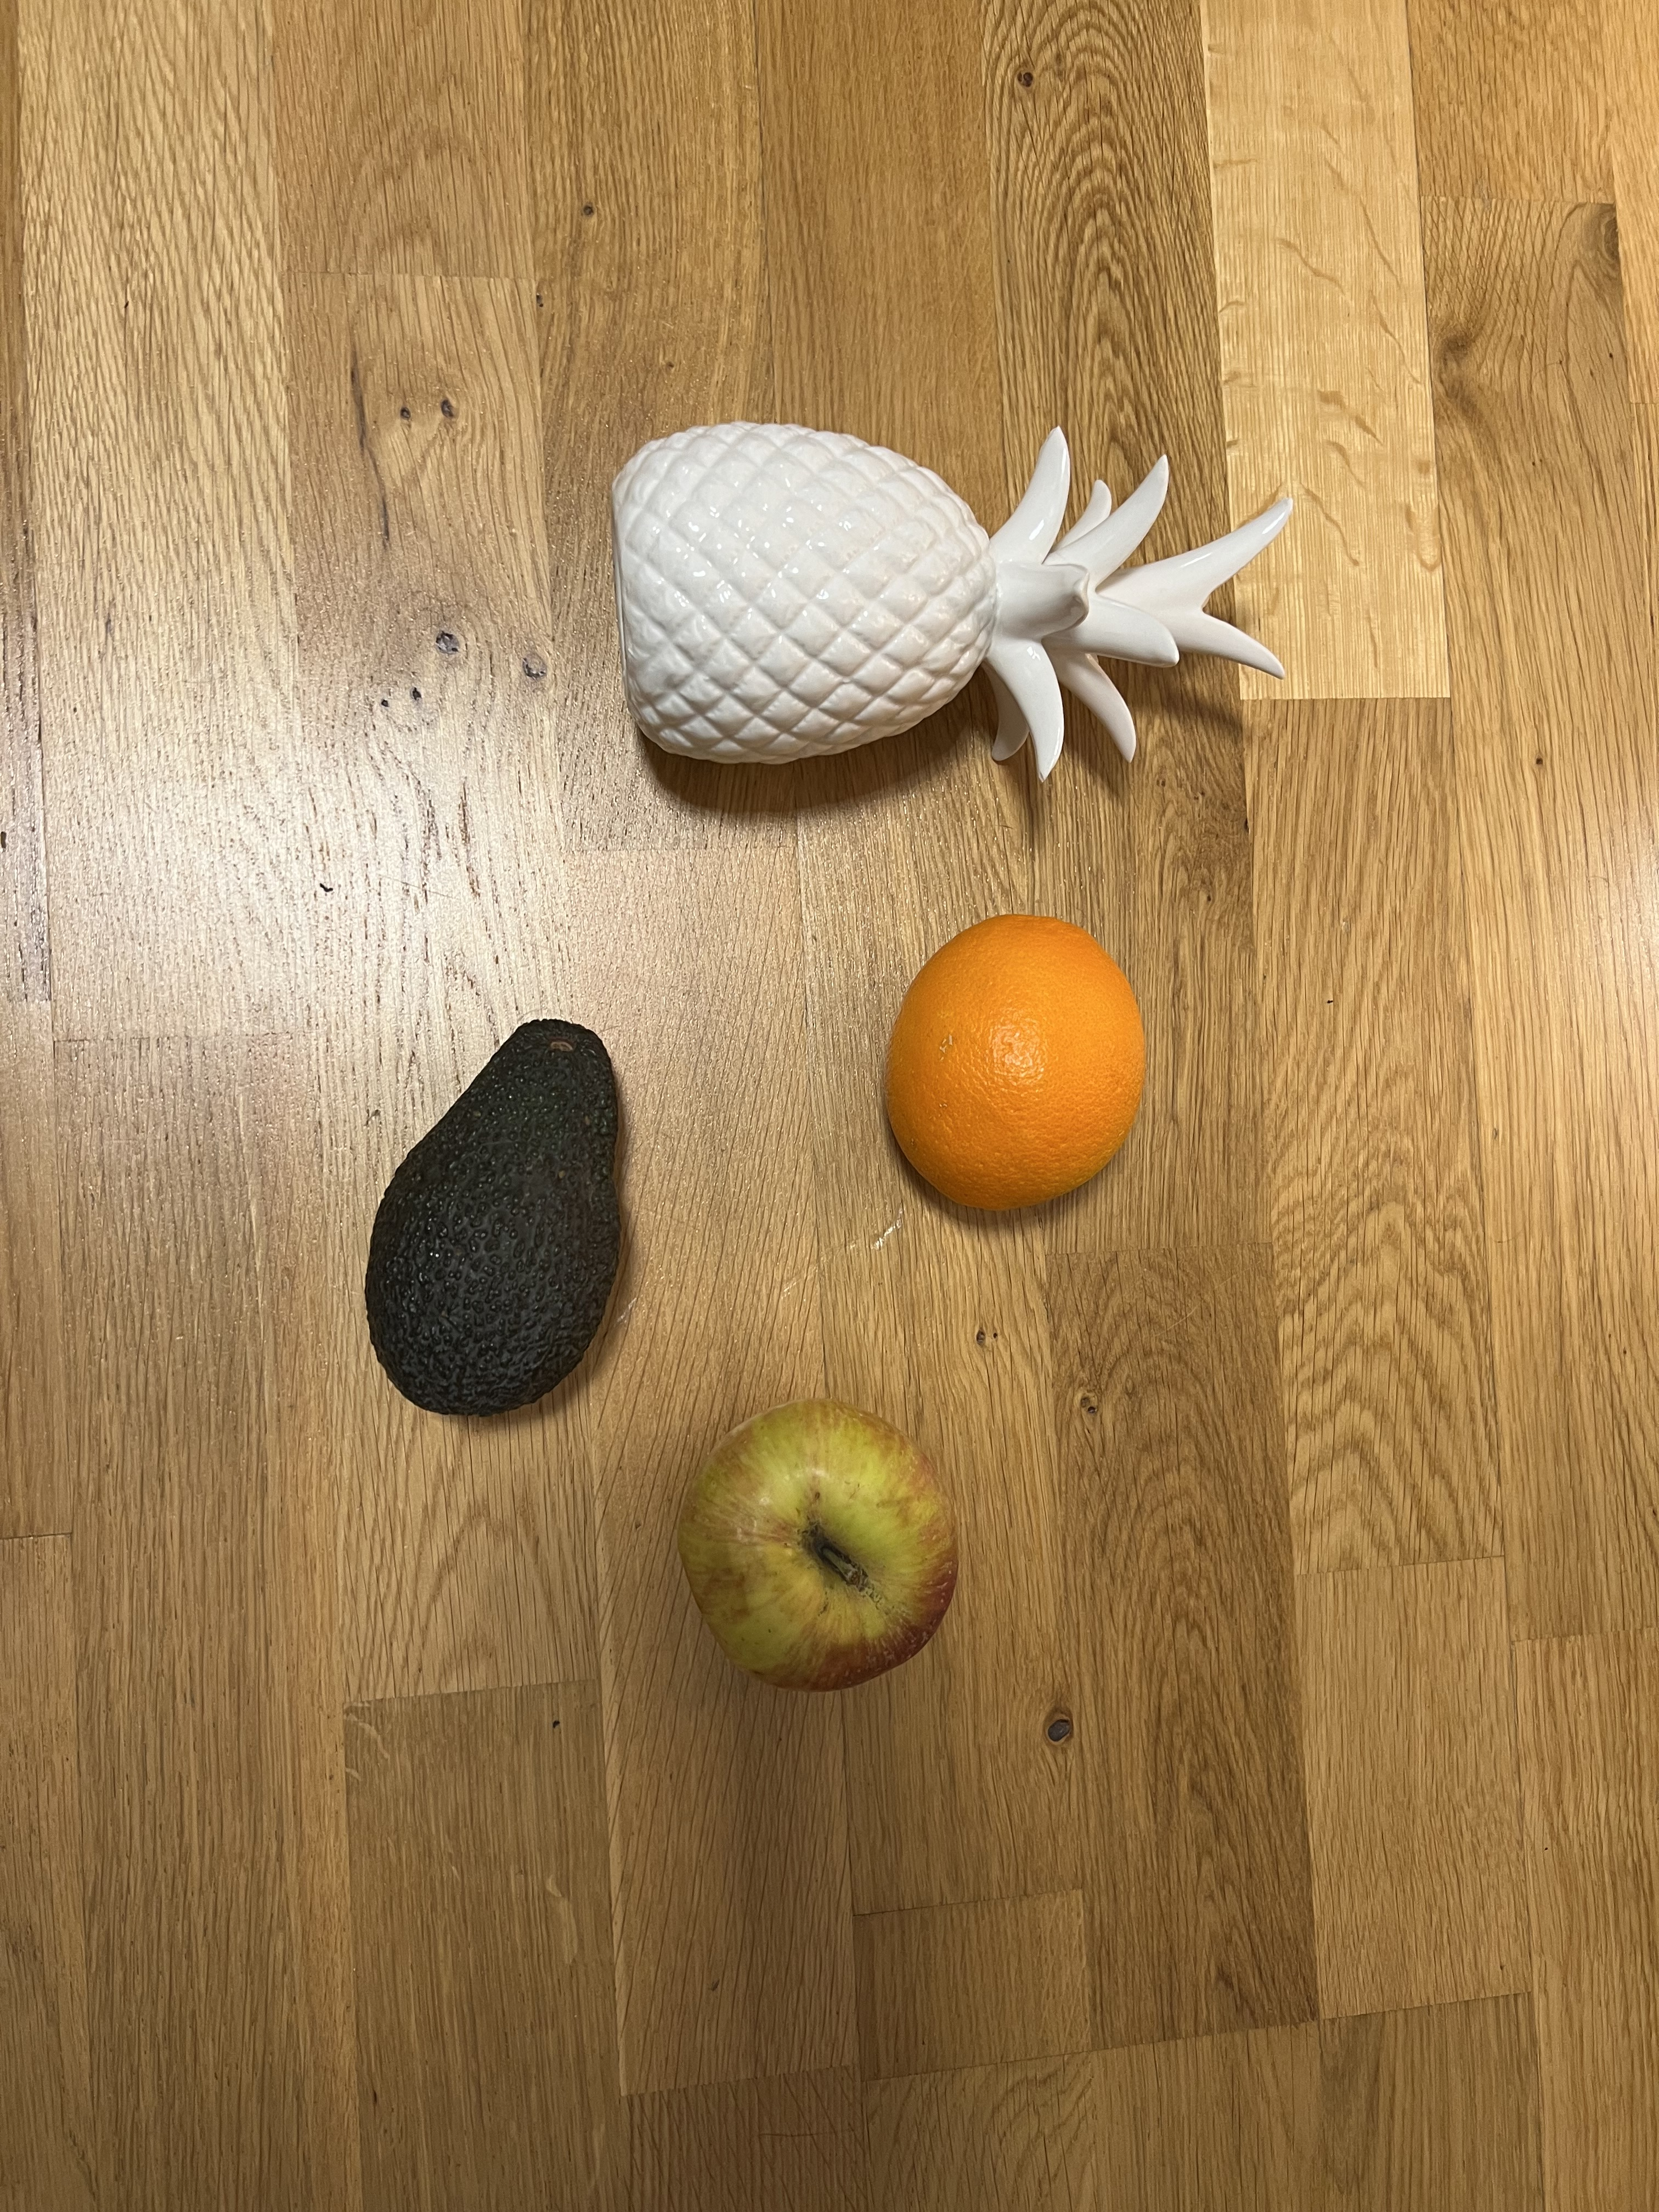BIODEGRADABLE: (342, 1000, 641, 1435), (669, 1397, 976, 1703), (868, 913, 1152, 1230)
